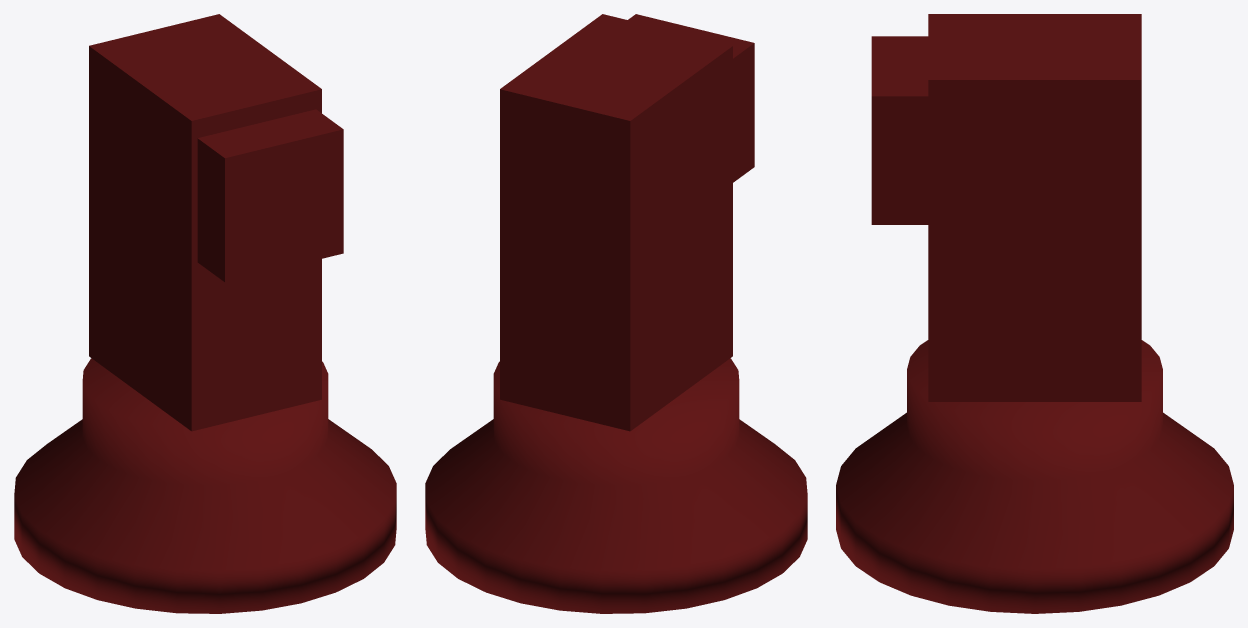
The model's file is b-knight.glb.
3 renders of one model, left to right at view 1: azimuth 30°, elevation 25°; view 2: azimuth 150°, elevation 25°; view 3: azimuth 270°, elevation 25°, orthographic. The views are drawn at different scales.
Visible parts, largest first — view 1: b-knight; view 2: b-knight; view 3: b-knight.
Part boxes in pixels (x1,y1,x2,y2): b-knight: (14, 14, 396, 613); b-knight: (425, 14, 807, 613); b-knight: (836, 14, 1233, 613).
Bounding box in the file's own units: 0.56 × 0.75 × 0.56.
